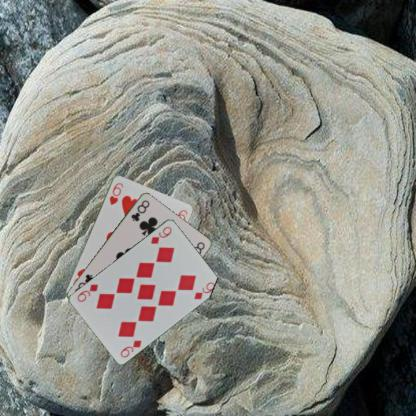6h: (107, 180, 124, 206)
8c: (128, 197, 151, 222)
9d: (118, 337, 143, 359), (148, 224, 173, 245)
